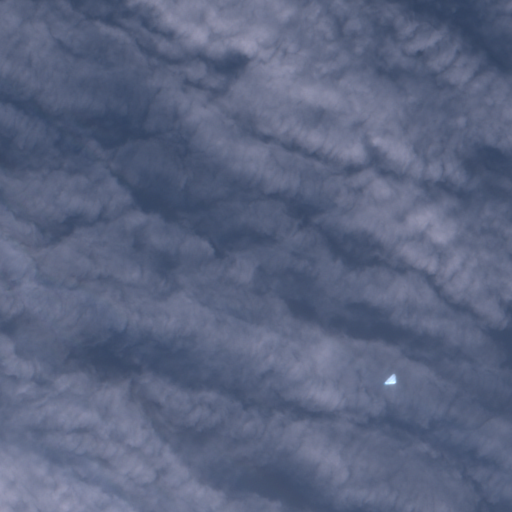Iceberg: (384, 374, 395, 384)
